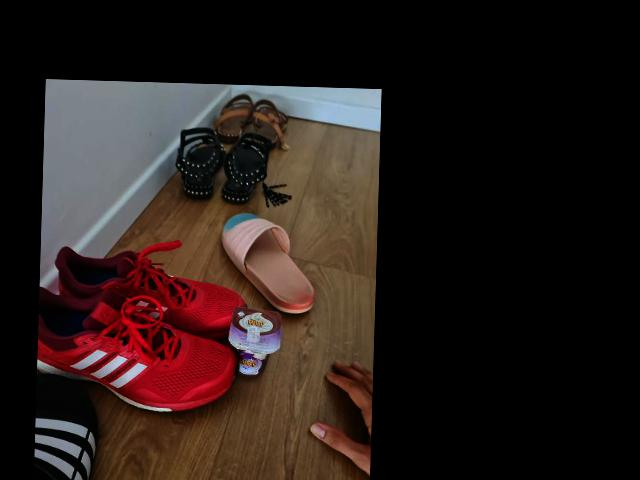milky: (222, 306, 280, 380)
